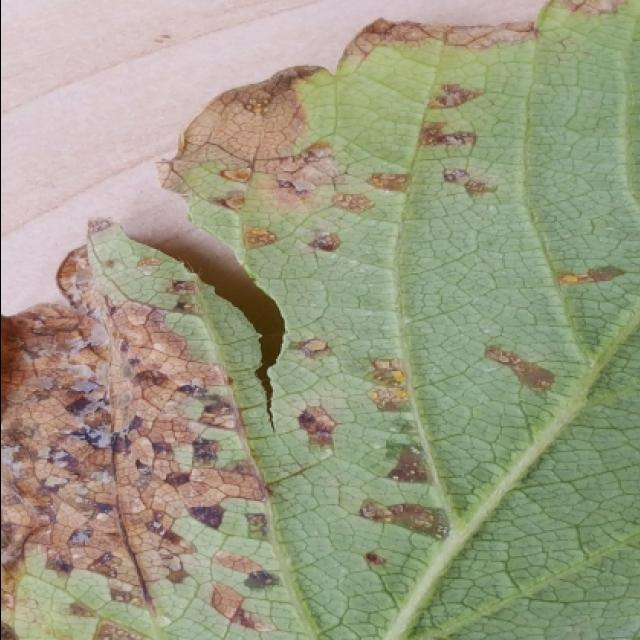Angular Leafspot: (2, 0, 638, 638)
